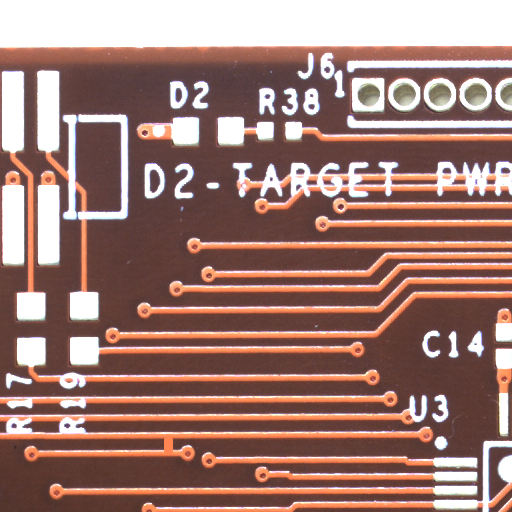Short: (168, 444, 182, 462)
